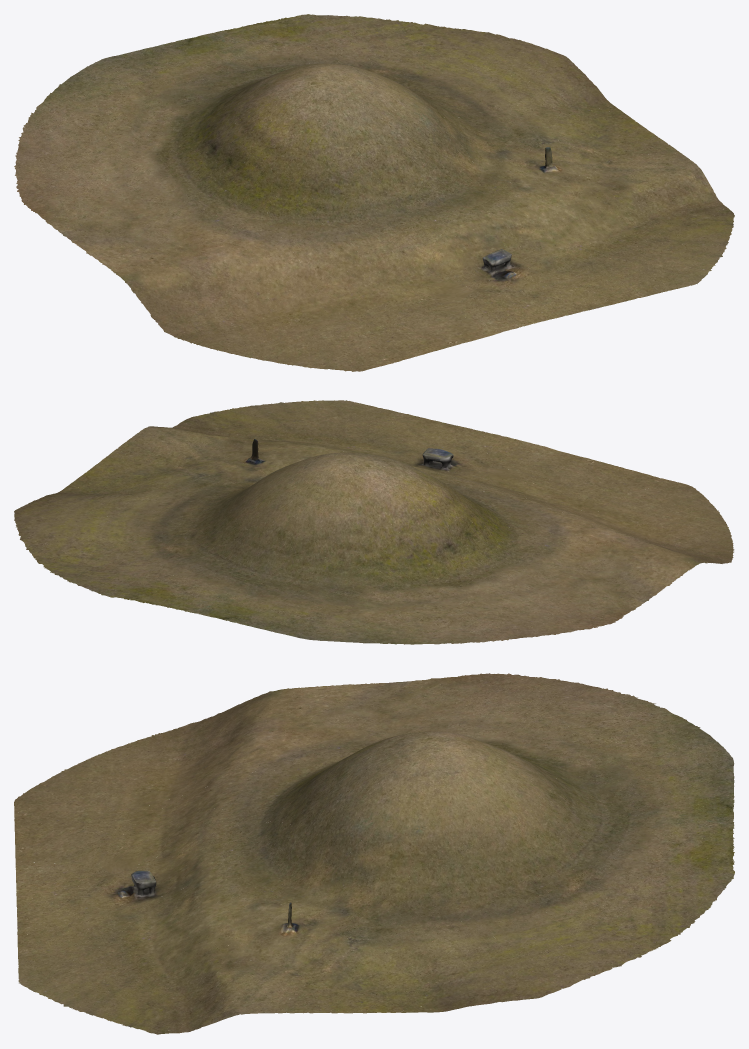
The model's file is jima.glb.
The picture shows the model from 3 angles, top to bottom: view 1: azimuth 30°, elevation 25°; view 2: azimuth 150°, elevation 25°; view 3: azimuth 270°, elevation 25°; orthographic projection. The views are drawn at different scales.
Parts seen in each view (by area): view 1: Object_2; view 2: Object_2; view 3: Object_2.
Part boxes in pixels (box(x1,y1,x2,y2)): Object_2: box(14, 14, 734, 371); Object_2: box(14, 400, 734, 644); Object_2: box(14, 673, 734, 1034).
Size of the model in its own units: 26.54 by 5.45 by 25.71.
1 material, 1 textured.
